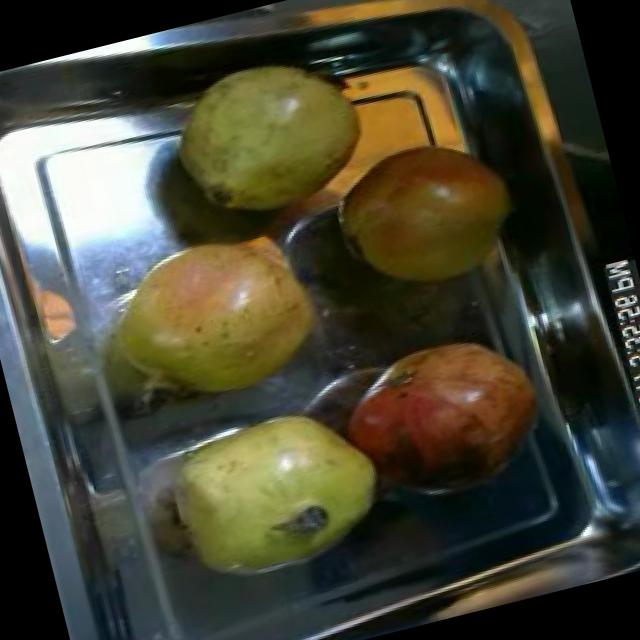fruit: (128, 374, 412, 614), (83, 204, 355, 434), (316, 312, 564, 524), (150, 38, 392, 240), (312, 117, 536, 317)
